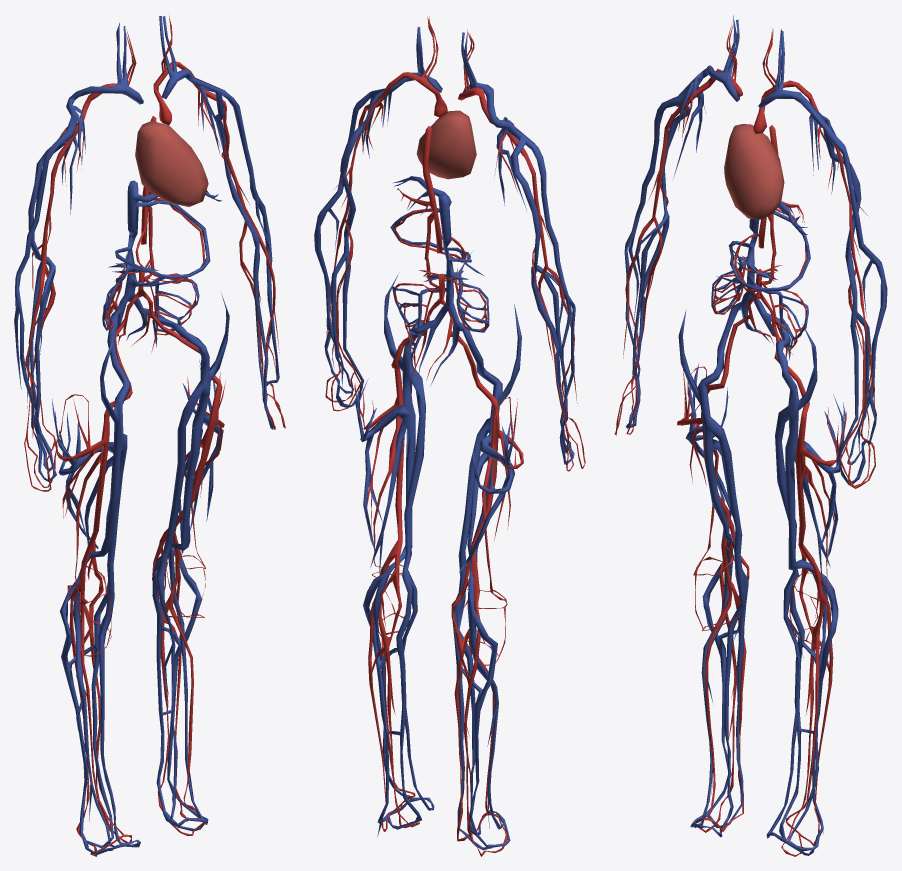
Rendered from pediatric_adolescent_male.cardiovascular.LOD3.glb.
The picture shows the model from 3 angles, left to right: view 1: azimuth 30°, elevation 25°; view 2: azimuth 150°, elevation 25°; view 3: azimuth 330°, elevation 25°; orthographic projection.
Parts seen in each view (by area): view 1: PEDIATRIC.ADOLESCENT.MALE.CARDIOVASCULAR.BLOOD_IN_LARGE_VEIN, PEDIATRIC.ADOLESCENT.MALE.CARDIOVASCULAR.BLOOD_IN_LARGE_ARTE, PEDIATRIC.ADOLESCENT.MALE.CARDIOVASCULAR.HEART_WALL; view 2: PEDIATRIC.ADOLESCENT.MALE.CARDIOVASCULAR.BLOOD_IN_LARGE_VEIN, PEDIATRIC.ADOLESCENT.MALE.CARDIOVASCULAR.BLOOD_IN_LARGE_ARTE, PEDIATRIC.ADOLESCENT.MALE.CARDIOVASCULAR.HEART_WALL; view 3: PEDIATRIC.ADOLESCENT.MALE.CARDIOVASCULAR.BLOOD_IN_LARGE_VEIN, PEDIATRIC.ADOLESCENT.MALE.CARDIOVASCULAR.BLOOD_IN_LARGE_ARTE, PEDIATRIC.ADOLESCENT.MALE.CARDIOVASCULAR.HEART_WALL.
Part boxes in pixels (x1,y1,x2,y2): PEDIATRIC.ADOLESCENT.MALE.CARDIOVASCULAR.BLOOD_IN_LARGE_VEIN: (14,16,279,855); PEDIATRIC.ADOLESCENT.MALE.CARDIOVASCULAR.BLOOD_IN_LARGE_ARTE: (24,16,285,856); PEDIATRIC.ADOLESCENT.MALE.CARDIOVASCULAR.HEART_WALL: (135,121,208,206); PEDIATRIC.ADOLESCENT.MALE.CARDIOVASCULAR.BLOOD_IN_LARGE_VEIN: (314,27,575,850); PEDIATRIC.ADOLESCENT.MALE.CARDIOVASCULAR.BLOOD_IN_LARGE_ARTE: (325,16,585,856); PEDIATRIC.ADOLESCENT.MALE.CARDIOVASCULAR.HEART_WALL: (416,110,476,179); PEDIATRIC.ADOLESCENT.MALE.CARDIOVASCULAR.BLOOD_IN_LARGE_VEIN: (624,15,887,855); PEDIATRIC.ADOLESCENT.MALE.CARDIOVASCULAR.BLOOD_IN_LARGE_ARTE: (614,24,875,856); PEDIATRIC.ADOLESCENT.MALE.CARDIOVASCULAR.HEART_WALL: (724,124,784,219).
Size of the model in its own units: 0.4887 by 1.5 by 0.1802.
